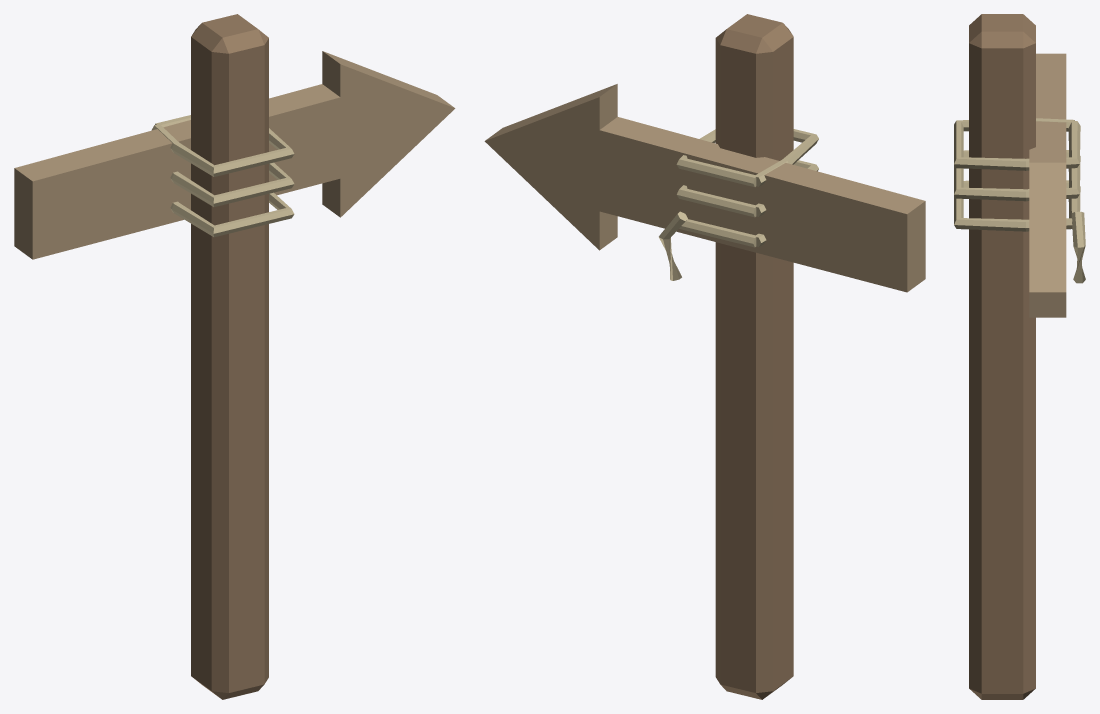
Rendered from holm_arrival_waypost_v1.glb.
3 renders of one model, left to right at view 1: azimuth 30°, elevation 25°; view 2: azimuth 150°, elevation 25°; view 3: azimuth 270°, elevation 25°, orthographic.
Visible parts, largest first — view 1: LandingWaypost_Landing_aged_oak, LandingWaypost_Landing_cut_oak, LandingWaypost_Landing_flax_rope; view 2: LandingWaypost_Landing_aged_oak, LandingWaypost_Landing_cut_oak, LandingWaypost_Landing_flax_rope; view 3: LandingWaypost_Landing_aged_oak, LandingWaypost_Landing_cut_oak, LandingWaypost_Landing_flax_rope.
Boxes of the visible parts, x1,y1,x2,y2 form: LandingWaypost_Landing_aged_oak: (191,14,268,699); LandingWaypost_Landing_cut_oak: (14,51,455,259); LandingWaypost_Landing_flax_rope: (151,115,294,237); LandingWaypost_Landing_aged_oak: (715,14,793,699); LandingWaypost_Landing_cut_oak: (484,84,925,292); LandingWaypost_Landing_flax_rope: (659,129,818,280); LandingWaypost_Landing_aged_oak: (969,14,1035,699); LandingWaypost_Landing_cut_oak: (1029,53,1066,317); LandingWaypost_Landing_flax_rope: (954,118,1085,283).
Bounding box in the file's own units: 1.47 × 2.2 × 0.3936.
